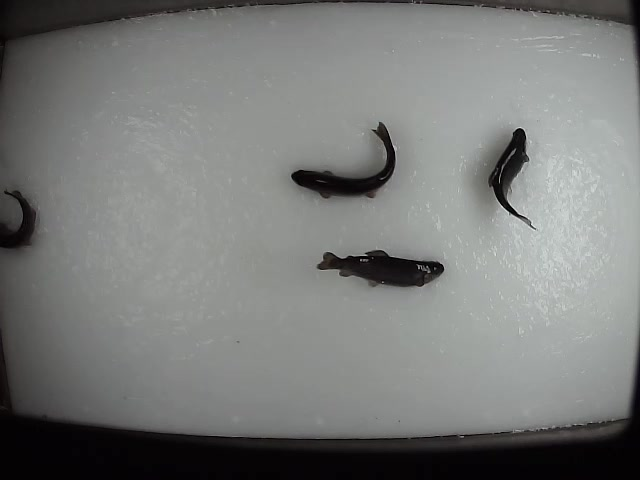fish: (292, 119, 396, 200), (313, 241, 445, 290), (486, 126, 548, 230)
